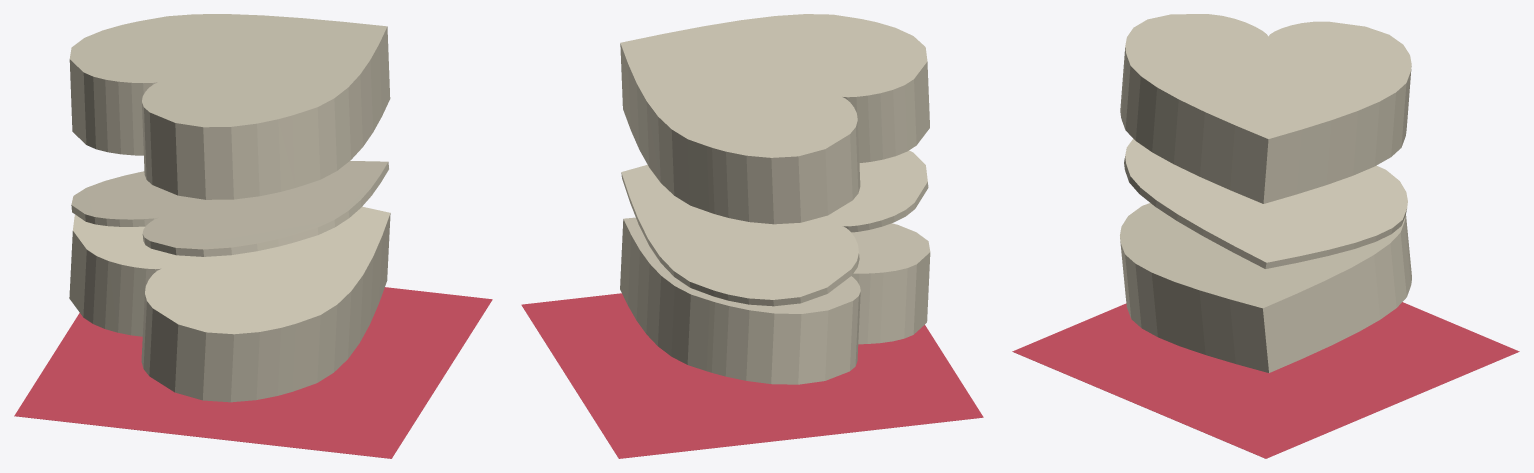
The model's file is VVV.glb.
3 views of the same model, side by side, from view 1: azimuth 30°, elevation 25°; view 2: azimuth 150°, elevation 25°; view 3: azimuth 270°, elevation 25° (orthographic). The views are drawn at different scales.
Parts seen in each view (by area): view 1: Mesh_Mesh_head_geo.001_lambert2SG.001; view 2: Mesh_Mesh_head_geo.001_lambert2SG.001; view 3: Mesh_Mesh_head_geo.001_lambert2SG.001.
Boxes of the visible parts, x1,y1,x2,y2 form: Mesh_Mesh_head_geo.001_lambert2SG.001: (14, 14, 492, 458); Mesh_Mesh_head_geo.001_lambert2SG.001: (521, 14, 983, 458); Mesh_Mesh_head_geo.001_lambert2SG.001: (1012, 14, 1519, 458).
Bounding box in the file's own units: 0.0354 × 0.0217 × 0.0354.
